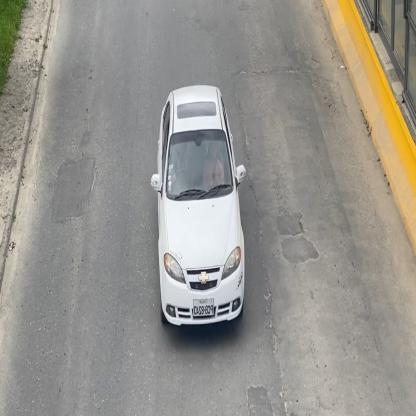Placa: (192, 298, 213, 320)
